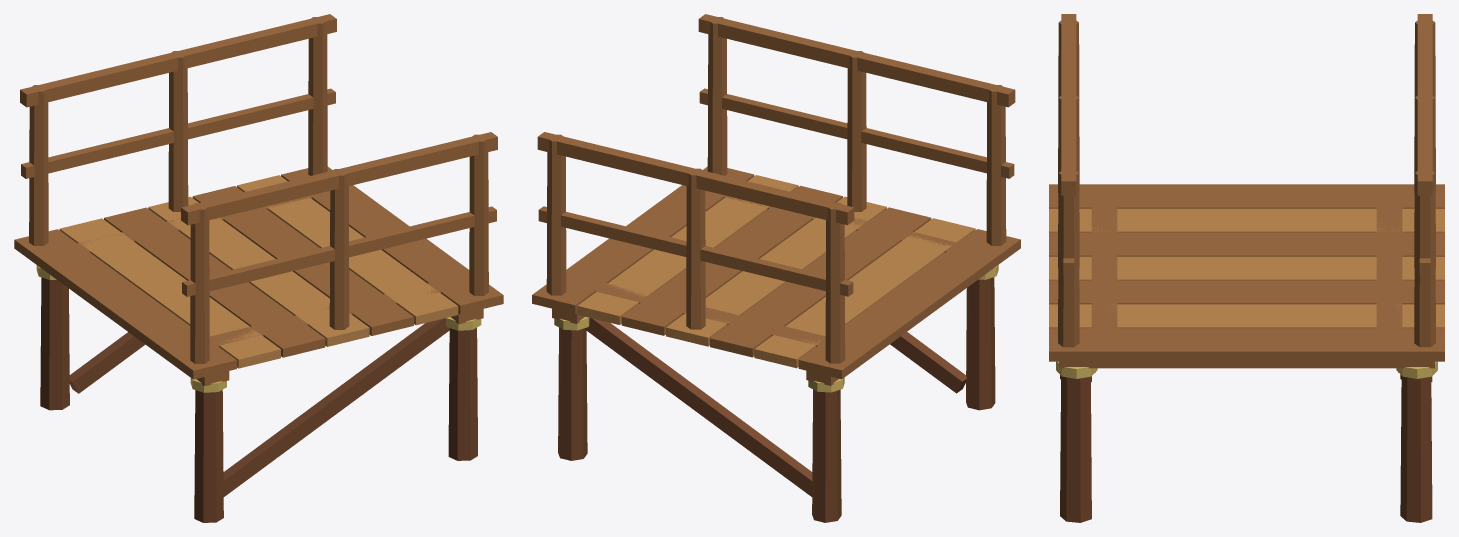
The model's file is bridge_straight 2.glb.
3 renders of one model, left to right at view 1: azimuth 30°, elevation 25°; view 2: azimuth 150°, elevation 25°; view 3: azimuth 270°, elevation 25°, orthographic. The views are drawn at different scales.
Visible parts, largest first — view 1: Deck_0, Deck_1, Deck_2, Deck_5, Deck_3, Top_Rail_1, Top_Rail_0, Under_Brace_0, Deck_6, Deck_4, Mid_Rail_1, Mid_Rail_0 (+12 smaller); view 2: Deck_0, Deck_1, Deck_2, Top_Rail_0, Top_Rail_1, Deck_5, Deck_6, Under_Brace_1, Deck_3, Deck_4, Mid_Rail_0, Mid_Rail_1 (+12 smaller); view 3: Deck_6, Deck_2, Deck_4, Deck_0, Deck_1, Deck_3, Deck_5, Beam_0, Beam_1, Far_Leg_1, Far_Leg_0, Rail_Post_0_2 (+8 smaller).
Part boxes in pixels (x1,y1,x2,y2): Deck_0: [14, 229, 236, 379]; Deck_1: [59, 218, 280, 368]; Deck_2: [104, 207, 325, 357]; Deck_5: [237, 175, 458, 325]; Deck_3: [148, 196, 369, 346]; Top_Rail_1: [20, 14, 336, 107]; Top_Rail_0: [181, 132, 497, 225]; Under_Brace_0: [223, 318, 449, 496]; Deck_6: [281, 166, 503, 314]; Deck_4: [192, 186, 413, 335]; Mid_Rail_1: [21, 88, 335, 178]; Mid_Rail_0: [182, 206, 496, 296]; Deck_0: [798, 229, 1020, 379]; Deck_1: [754, 218, 975, 368]; Deck_2: [710, 207, 931, 357]; Top_Rail_0: [698, 14, 1015, 107]; Top_Rail_1: [537, 132, 854, 225]; Deck_5: [577, 175, 798, 324]; Deck_6: [532, 166, 754, 314]; Under_Brace_1: [585, 318, 812, 496]; Deck_3: [666, 196, 886, 346]; Deck_4: [621, 185, 842, 335]; Mid_Rail_0: [699, 88, 1014, 178]; Mid_Rail_1: [538, 206, 853, 296]; Deck_6: [1049, 328, 1444, 361]; Deck_2: [1049, 232, 1444, 256]; Deck_4: [1049, 280, 1444, 304]; Deck_0: [1049, 184, 1444, 208]; Deck_1: [1049, 208, 1444, 232]; Deck_3: [1049, 256, 1444, 280]; Deck_5: [1049, 304, 1444, 328]; Beam_0: [1091, 184, 1117, 361]; Beam_1: [1376, 184, 1402, 361]; Far_Leg_1: [1400, 376, 1432, 522]; Far_Leg_0: [1060, 376, 1091, 522]; Rail_Post_0_2: [1058, 169, 1079, 347].
Bounding box in the file's own units: 2 × 1.95 × 2.
